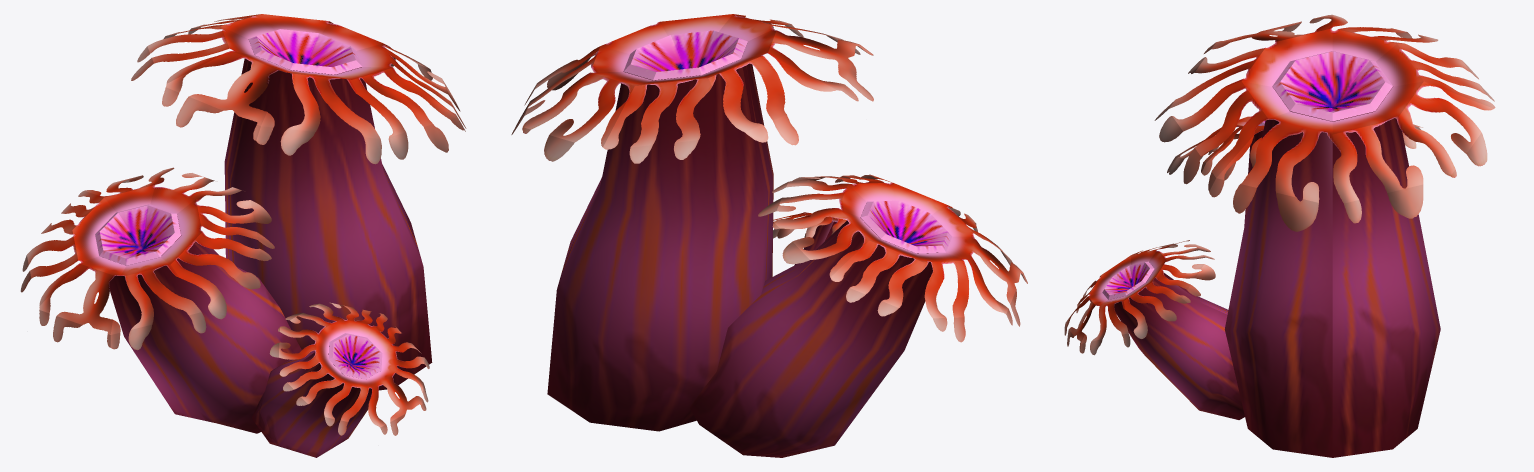
The model's file is coral_01.FBX.
The picture shows the model from 3 angles, left to right: view 1: azimuth 30°, elevation 25°; view 2: azimuth 150°, elevation 25°; view 3: azimuth 270°, elevation 25°; orthographic projection. The views are drawn at different scales.
Visible parts, largest first — view 1: coral_01; view 2: coral_01; view 3: coral_01.
Part boxes in pixels (left/top/right/bottom): coral_01: left=20, top=14, right=466, bottom=457; coral_01: left=511, top=14, right=1027, bottom=457; coral_01: left=1064, top=14, right=1495, bottom=457.
Size of the model in its own units: 18.13 by 14.63 by 16.24.
